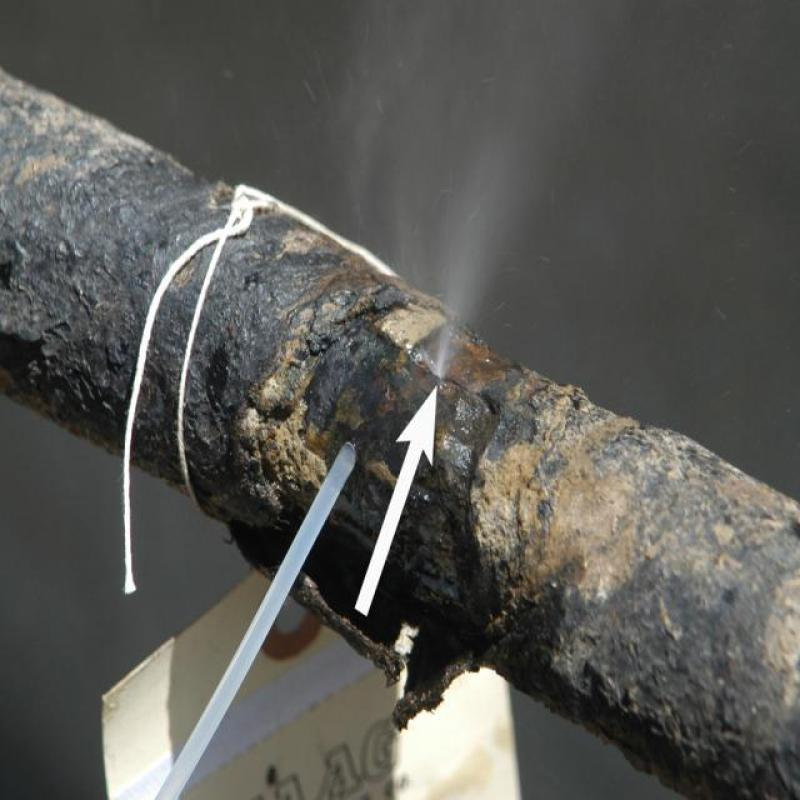Fracture: (290, 256, 584, 569)
